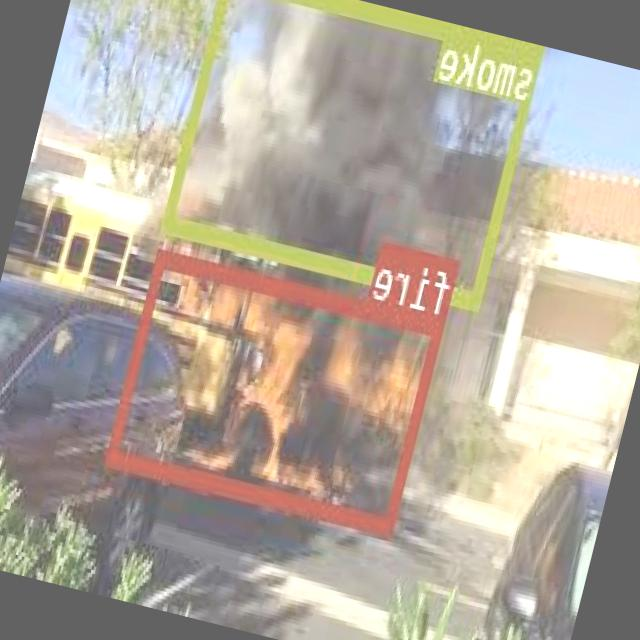fire: (108, 248, 446, 533)
smoke: (165, 0, 545, 305)
